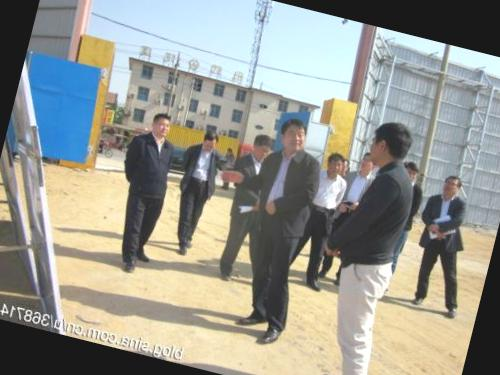no_helmet: (364, 116, 417, 177), (274, 110, 312, 160), (244, 126, 276, 166), (144, 107, 176, 144), (320, 148, 349, 183), (440, 169, 466, 200), (397, 157, 422, 187), (197, 128, 222, 155)
